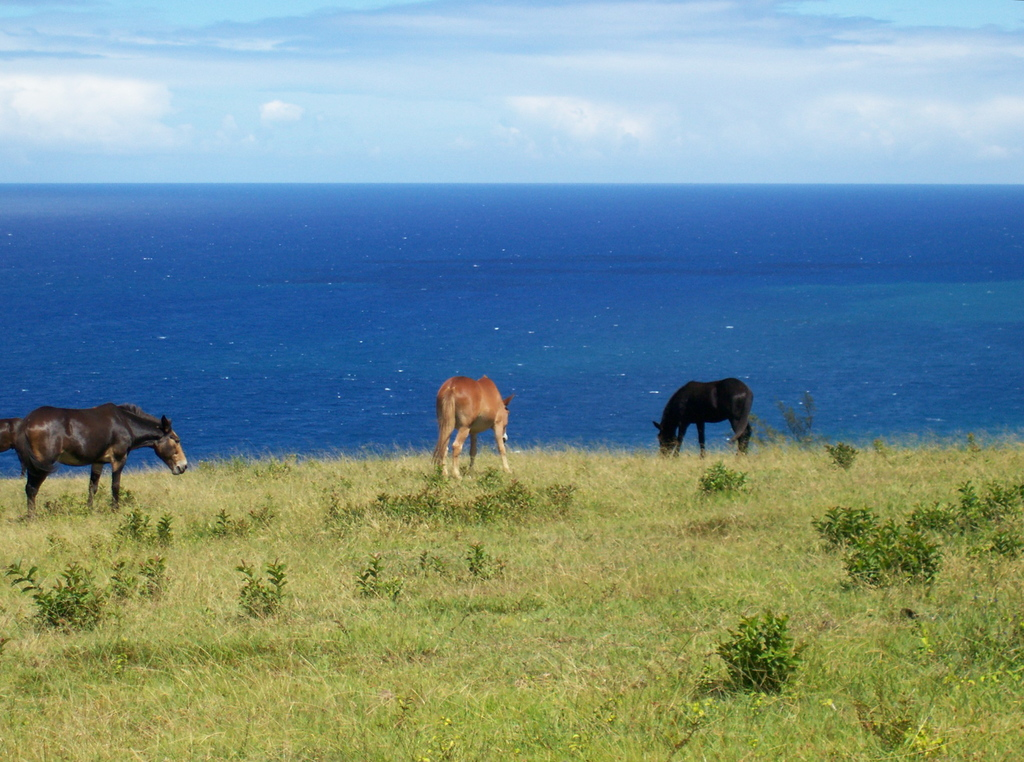horse: (10, 400, 192, 521), (650, 373, 752, 465), (430, 370, 511, 483)
